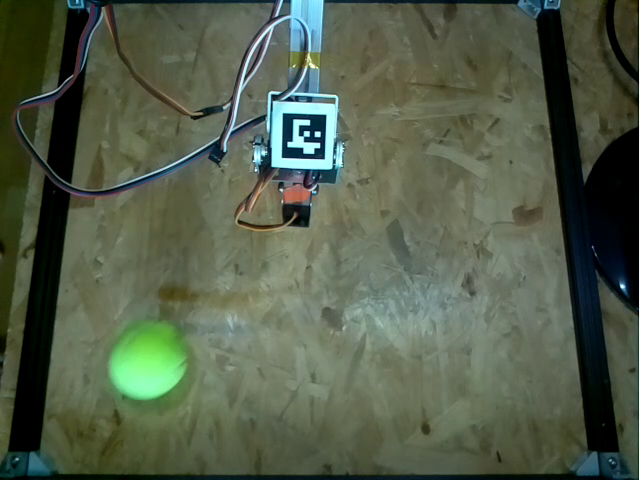tennis_ball: (110, 320, 189, 400)
